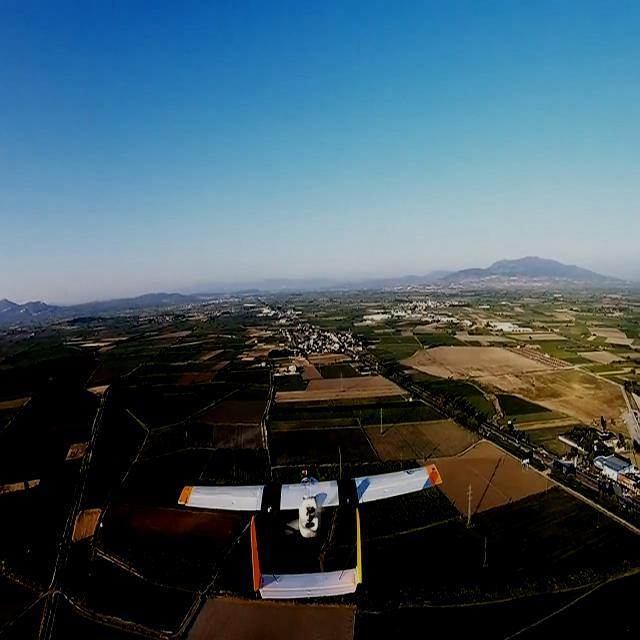iha: (165, 459, 457, 608)
